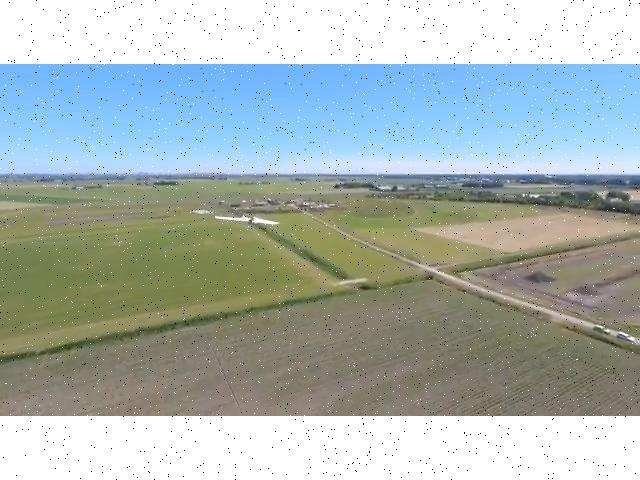Anti-Drone: (212, 202, 288, 233)
